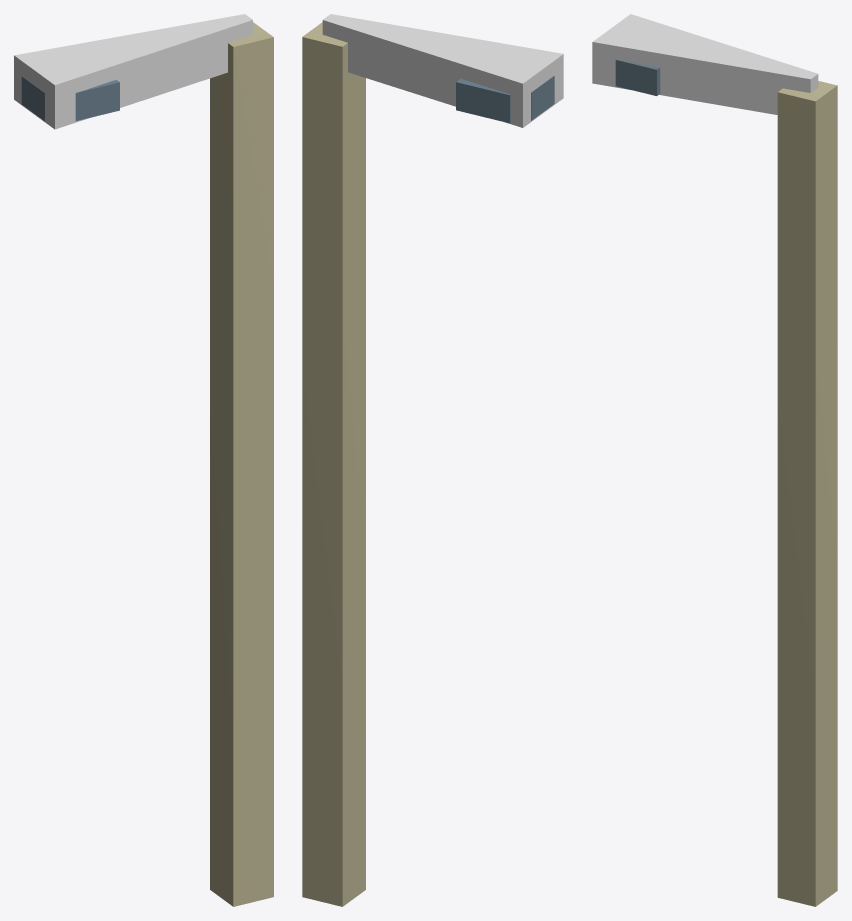
The model's file is Stolb1_B1_1_01.FBX.
The picture shows the model from 3 angles, left to right: view 1: azimuth 30°, elevation 25°; view 2: azimuth 150°, elevation 25°; view 3: azimuth 330°, elevation 25°; orthographic projection. The views are drawn at different scales.
Parts seen in each view (by area): view 1: Stolb1_B1_Live_1_01, Stolb1_B1_Damage_1_01; view 2: Stolb1_B1_Live_1_01, Stolb1_B1_Damage_1_01; view 3: Stolb1_B1_Live_1_01, Stolb1_B1_Damage_1_01.
Boxes of the visible parts, bbox=[...] form: Stolb1_B1_Live_1_01: bbox=[21, 22, 273, 906]; Stolb1_B1_Damage_1_01: bbox=[14, 14, 252, 129]; Stolb1_B1_Live_1_01: bbox=[302, 22, 554, 906]; Stolb1_B1_Damage_1_01: bbox=[322, 14, 563, 127]; Stolb1_B1_Live_1_01: bbox=[615, 60, 837, 906]; Stolb1_B1_Damage_1_01: bbox=[592, 14, 818, 114].
Size of the model in its own units: 1.7 by 6.2 by 0.5246.
